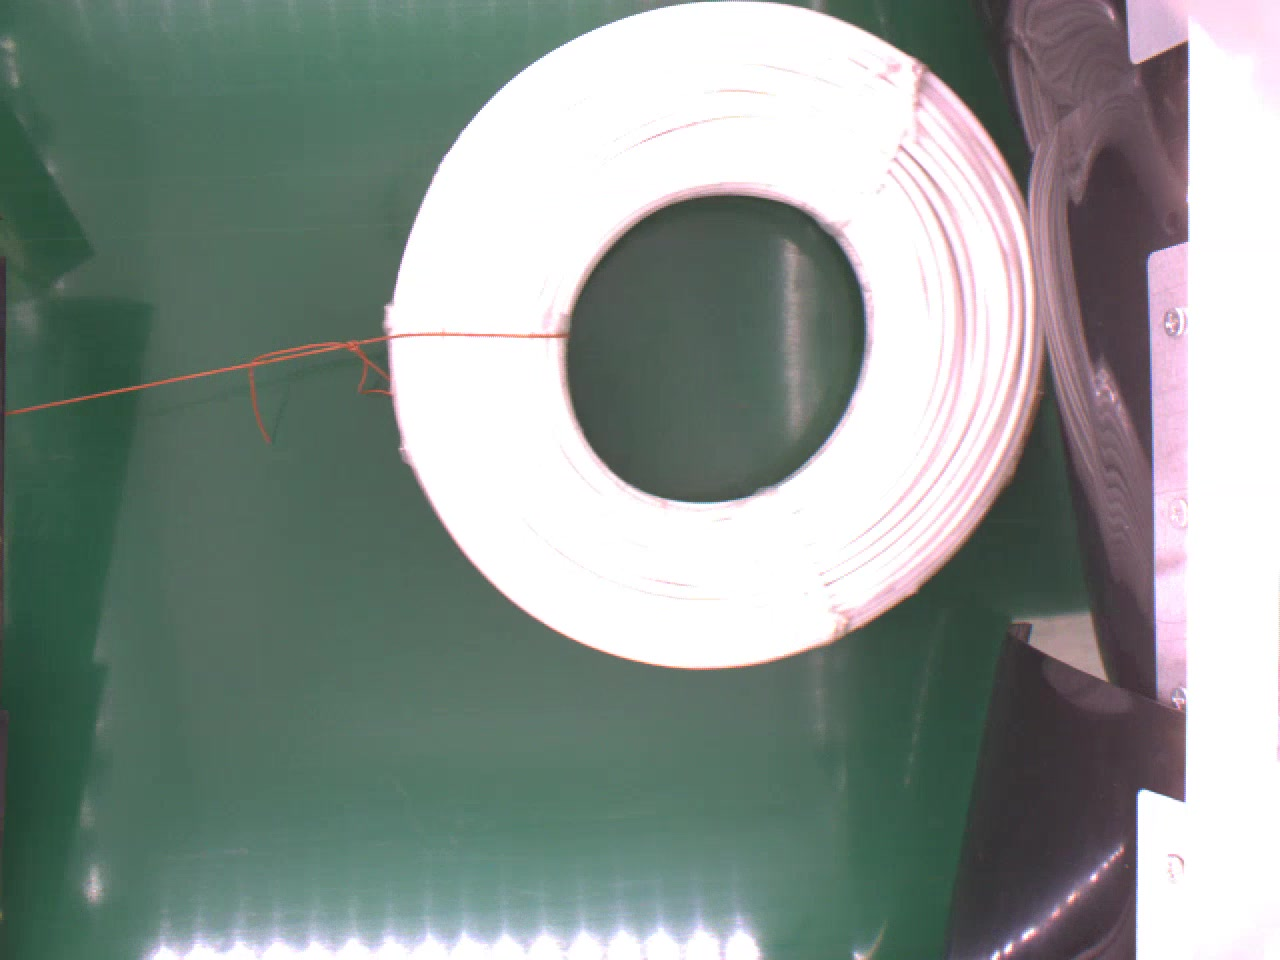white: (381, 0, 1051, 663)
